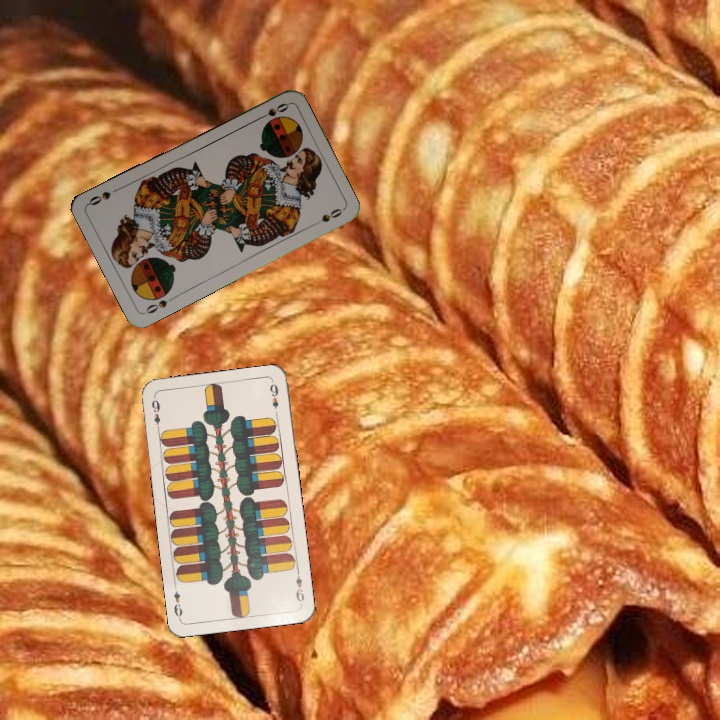E9: (292, 566, 307, 607), (147, 396, 163, 434)
SO: (253, 99, 291, 123), (140, 295, 170, 317)
